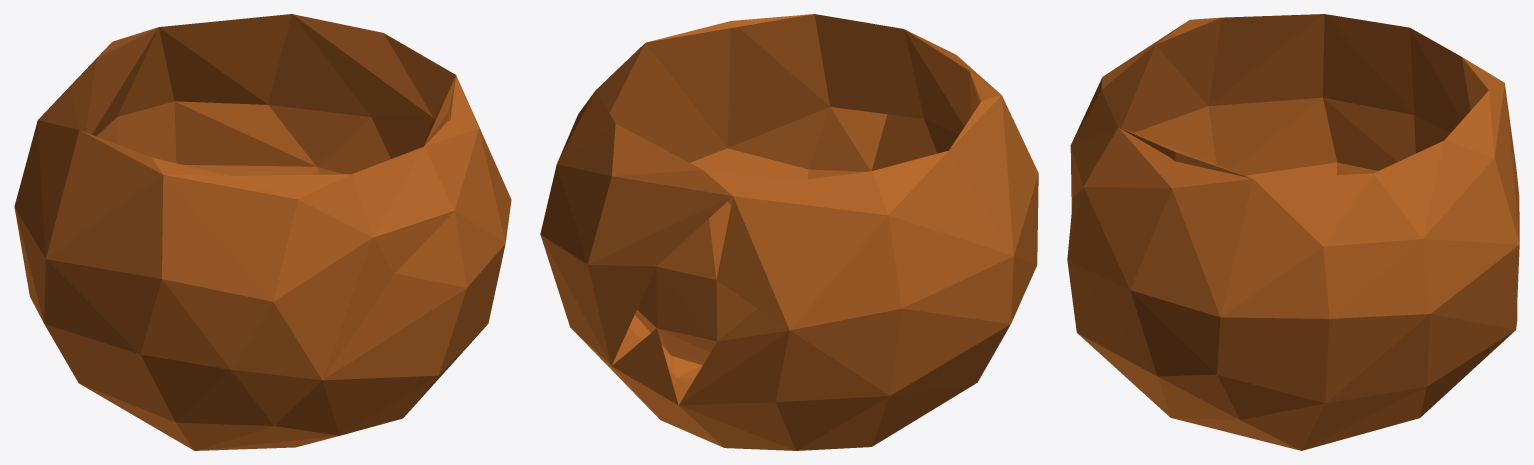
The model's file is SM_pottery_05.fbx.
3 views of the same model, side by side, from view 1: azimuth 30°, elevation 25°; view 2: azimuth 150°, elevation 25°; view 3: azimuth 270°, elevation 25° (orthographic).
Visible parts, largest first — view 1: Object032; view 2: Object032; view 3: Object032.
Part boxes in pixels (x1,y1,x2,y2): Object032: (14, 14, 511, 450); Object032: (540, 14, 1038, 450); Object032: (1067, 14, 1519, 450).
Bounding box in the file's own units: 31.11 × 22.02 × 28.44.
